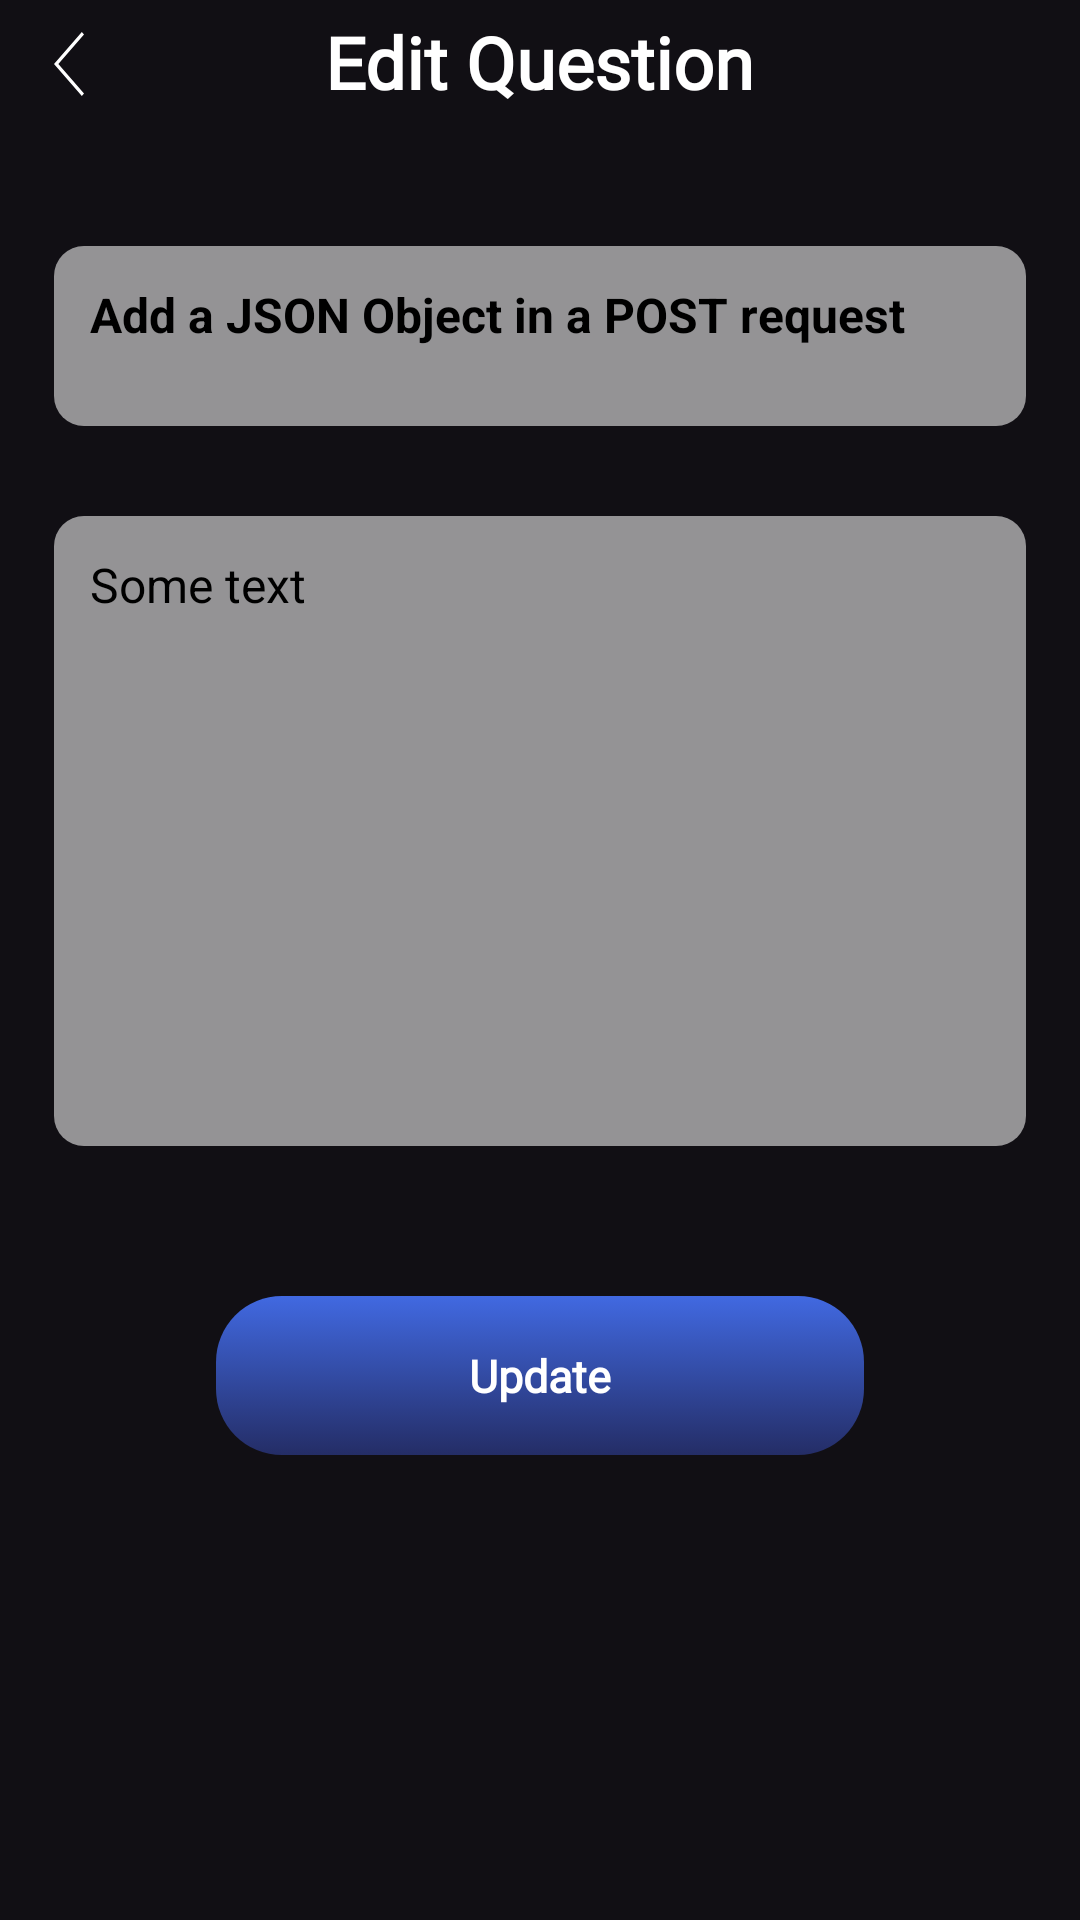

Point at icon controls on the screen. Image size 1080w x 1920h, points as point (x, y).
back: point (69, 64)
